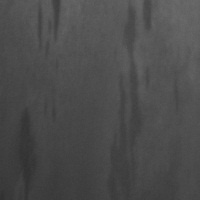inclusion: (109, 0, 155, 199), (11, 103, 41, 199), (29, 1, 64, 68), (156, 131, 190, 189), (138, 0, 156, 34)
